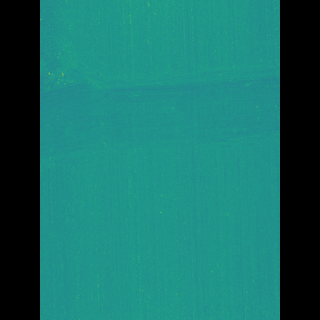Loch: (69, 55, 251, 166)
